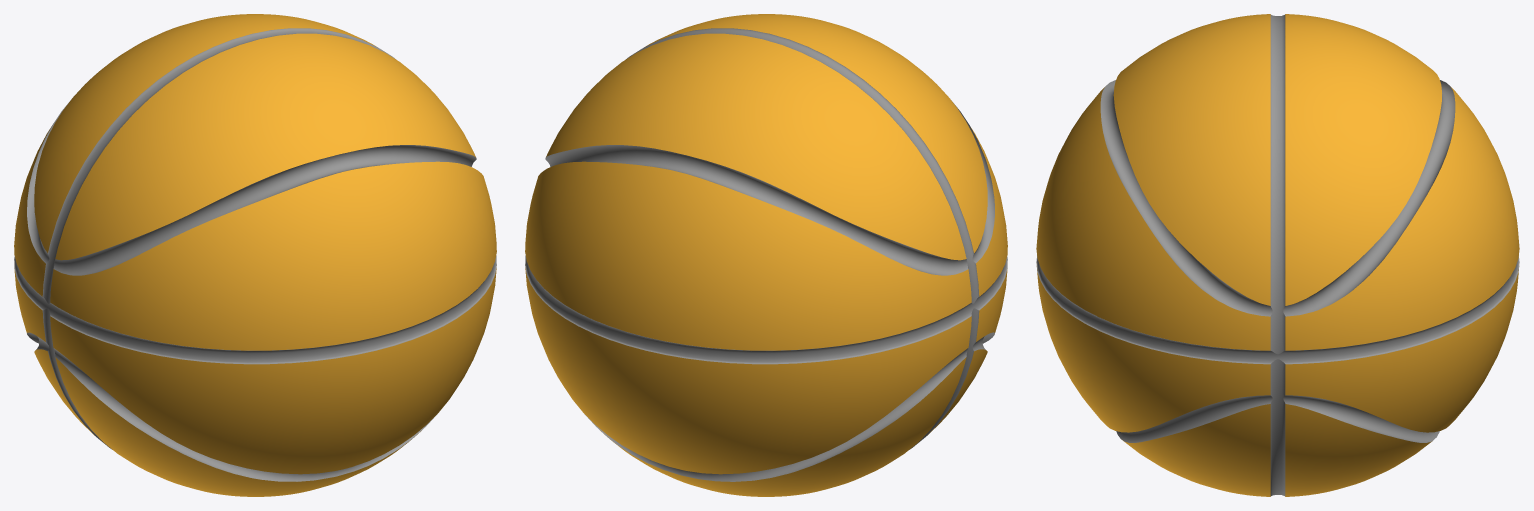
File: basketball2.dae
3 renders of one model, left to right at view 1: azimuth 30°, elevation 25°; view 2: azimuth 150°, elevation 25°; view 3: azimuth 270°, elevation 25°, orthographic.
Parts seen in each view (by area): view 1: mesh_1_bask, mesh_2_Revolve1; view 2: mesh_1_bask, mesh_2_Revolve1; view 3: mesh_1_bask, mesh_2_Revolve1.
Boxes of the visible parts, x1,y1,x2,y2 form: mesh_1_bask: [14, 14, 496, 496]; mesh_2_Revolve1: [14, 28, 496, 481]; mesh_1_bask: [525, 14, 1007, 496]; mesh_2_Revolve1: [525, 28, 1007, 481]; mesh_1_bask: [1036, 14, 1519, 496]; mesh_2_Revolve1: [1036, 14, 1519, 496].
Bounding box in the file's own units: 0.2413 × 0.2414 × 0.2414.
